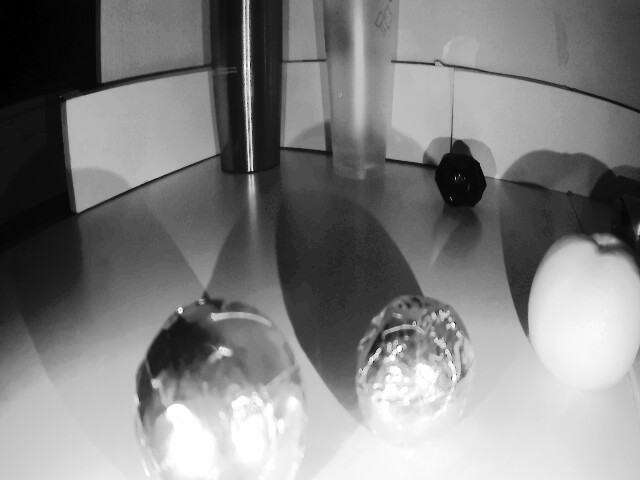black: (426, 151, 483, 212)
silver: (136, 306, 318, 480), (353, 292, 480, 427)
